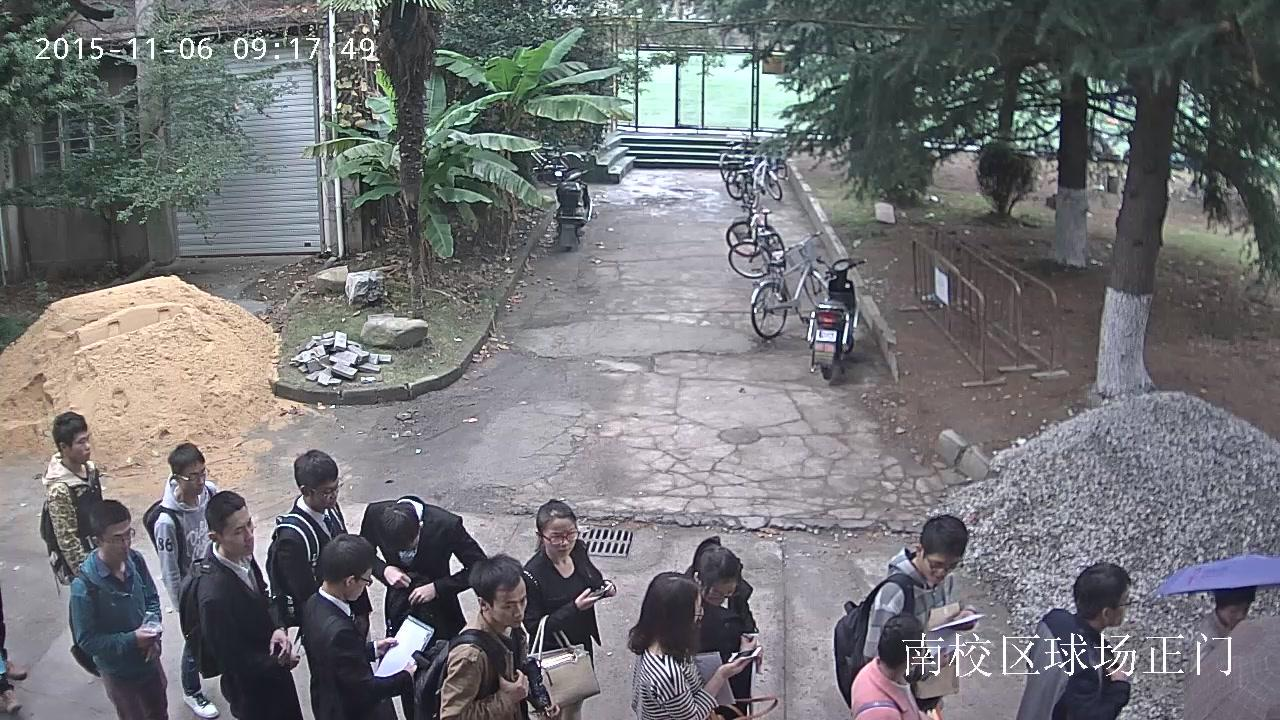face: (492, 576, 526, 627), (221, 507, 253, 556), (543, 518, 576, 557), (920, 552, 959, 583), (102, 519, 130, 560), (308, 479, 337, 510), (65, 430, 90, 464), (1107, 584, 1127, 626), (705, 579, 736, 606), (180, 461, 204, 495), (351, 568, 371, 600), (1219, 602, 1248, 624), (402, 533, 419, 549), (910, 646, 924, 663), (693, 593, 700, 622)
